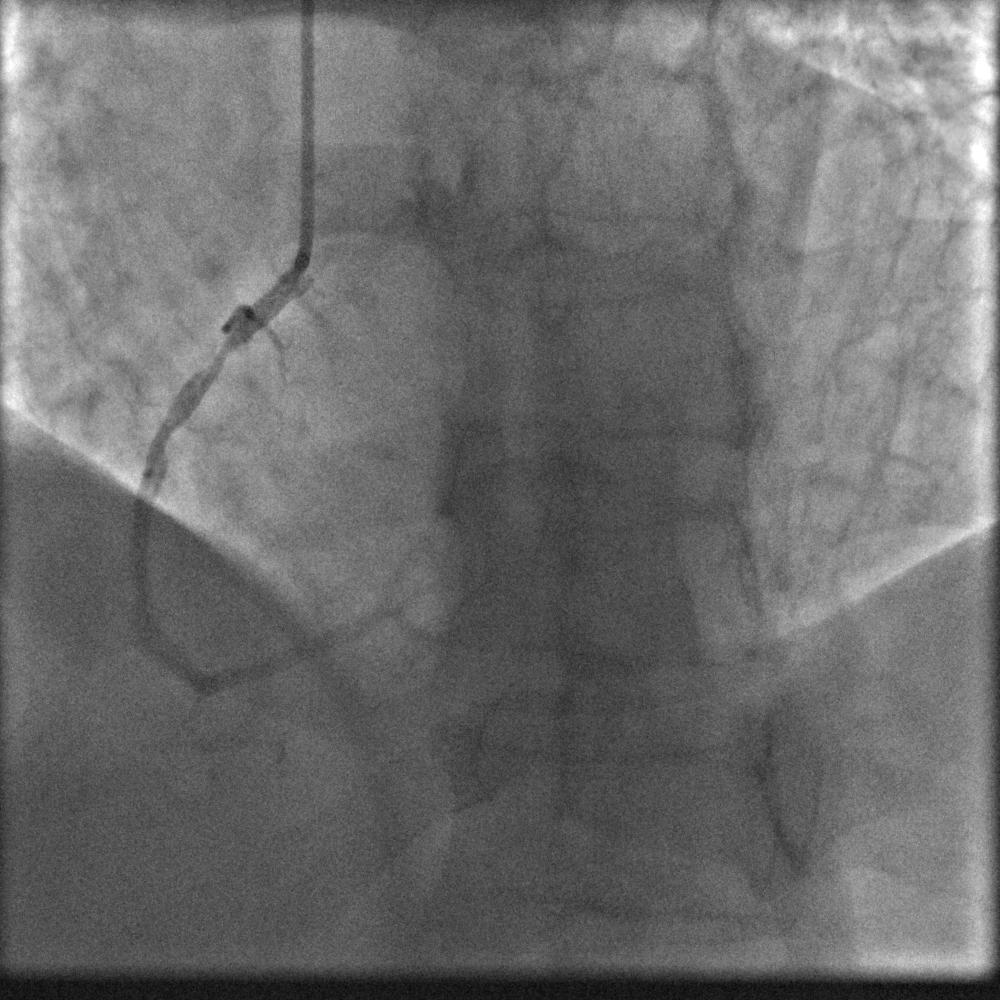Stenosis: (193, 331, 233, 387)
